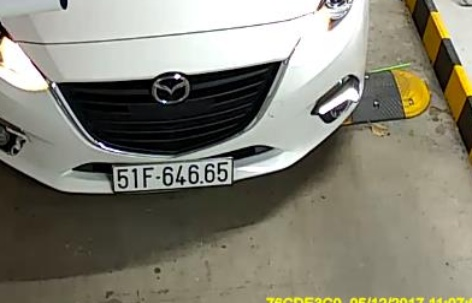plate: (110, 159, 237, 196)
